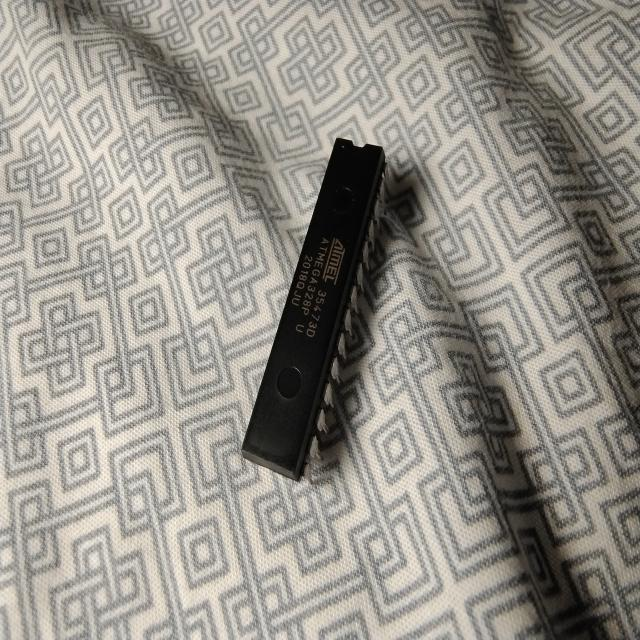atmega: (238, 135, 388, 484)
